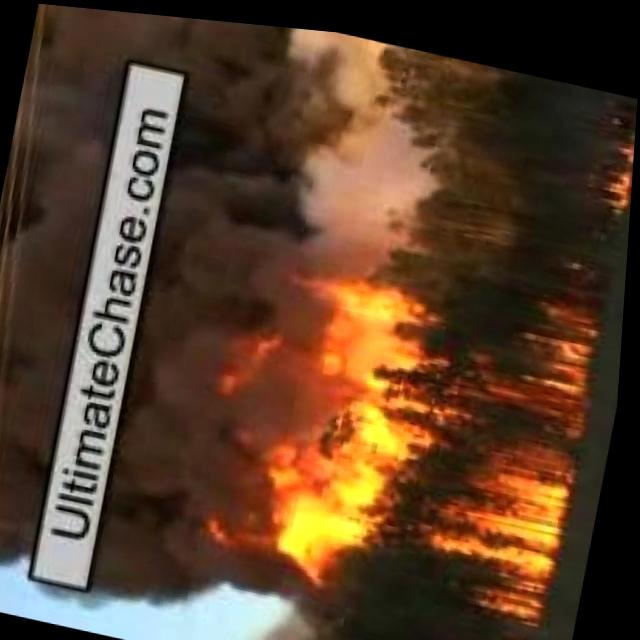fire: (206, 227, 614, 613), (588, 116, 636, 204)
